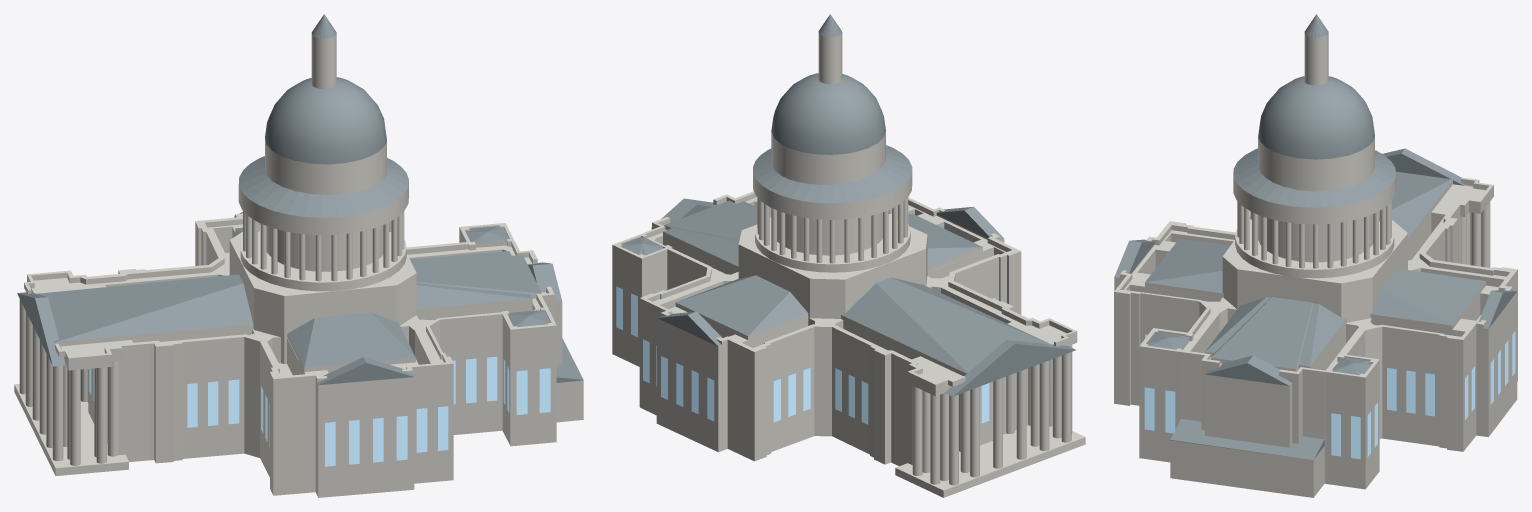
3 renders of one model, left to right at view 1: azimuth 30°, elevation 25°; view 2: azimuth 150°, elevation 25°; view 3: azimuth 270°, elevation 25°, orthographic. The views are drawn at different scales.
Parts seen in each view (by area): view 1: stone, roof, window; view 2: stone, roof, window; view 3: stone, roof, window.
Part boxes in pixels (bbox=[...]): stone: bbox=[14, 34, 583, 497]; roof: bbox=[17, 14, 583, 385]; window: bbox=[89, 356, 550, 466]; stone: bbox=[612, 32, 1085, 497]; roof: bbox=[621, 14, 1075, 396]; window: bbox=[616, 286, 995, 424]; stone: bbox=[1114, 33, 1517, 497]; roof: bbox=[1114, 14, 1516, 459]; window: bbox=[1144, 331, 1515, 459].
Size of the model in its own units: 118 by 90 by 87.02.
